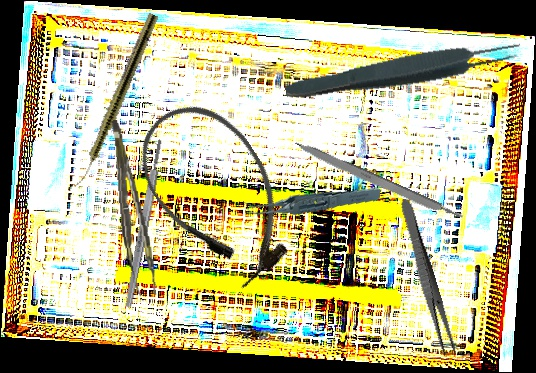Cannula: (119, 83, 315, 303)
Dressing Forceps: (395, 197, 459, 359)
Handpiece: (72, 11, 160, 193)
Scalpel Handle: (292, 139, 465, 225), (122, 137, 166, 310)
Tissue Forceps: (283, 35, 524, 108), (241, 170, 382, 230), (111, 118, 157, 298)
